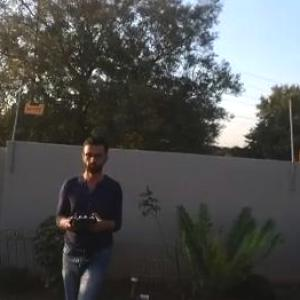follow: (51, 143, 131, 299)
